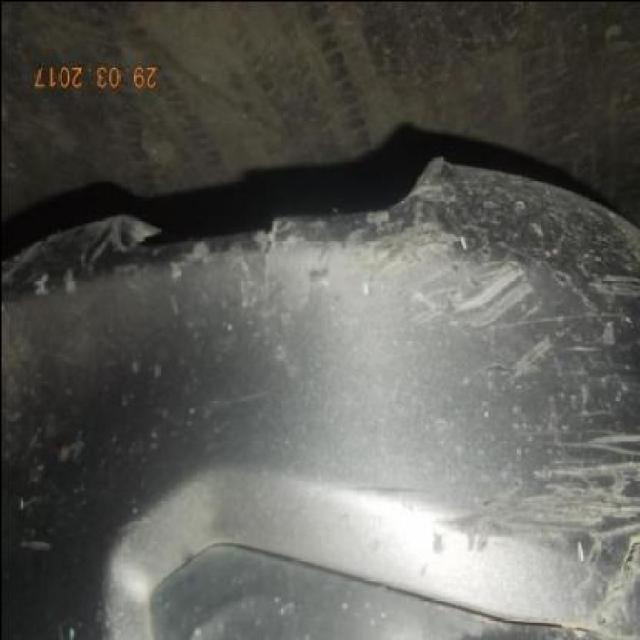damage: (427, 426, 640, 632), (205, 158, 458, 292), (408, 258, 538, 332), (573, 264, 640, 304), (508, 328, 552, 381), (603, 204, 640, 261)
